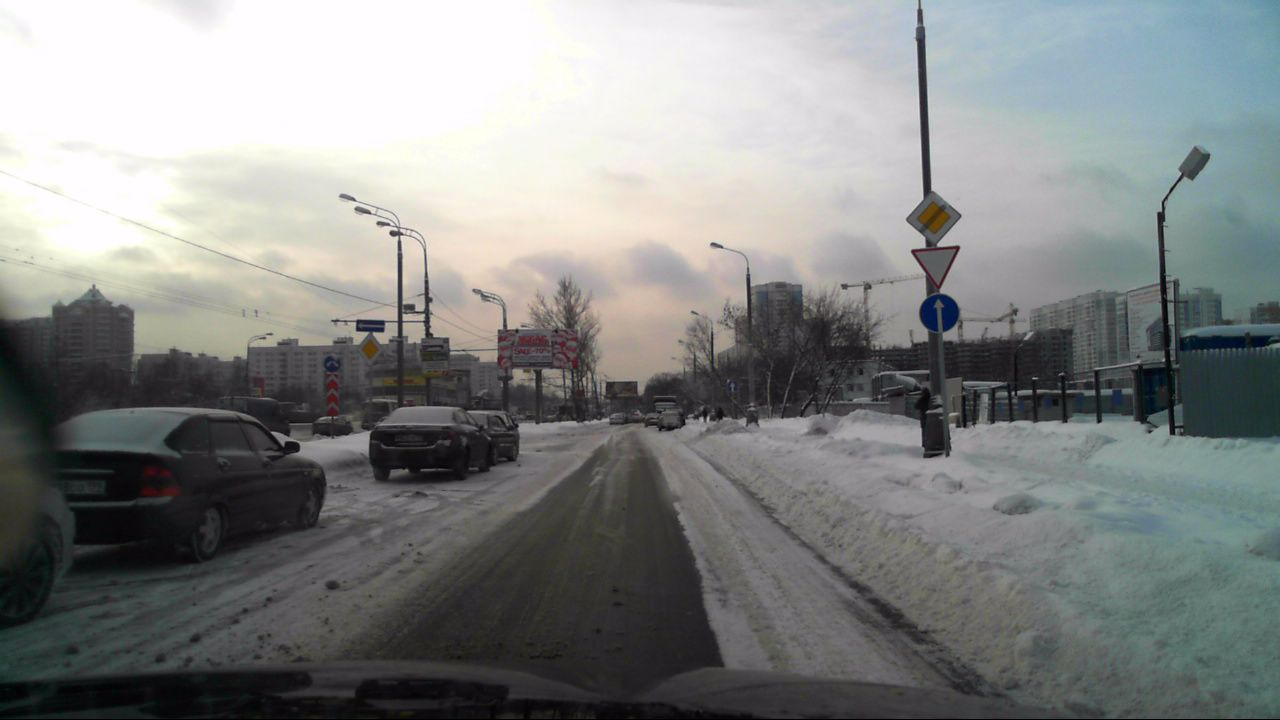main road: (903, 189, 962, 246)
